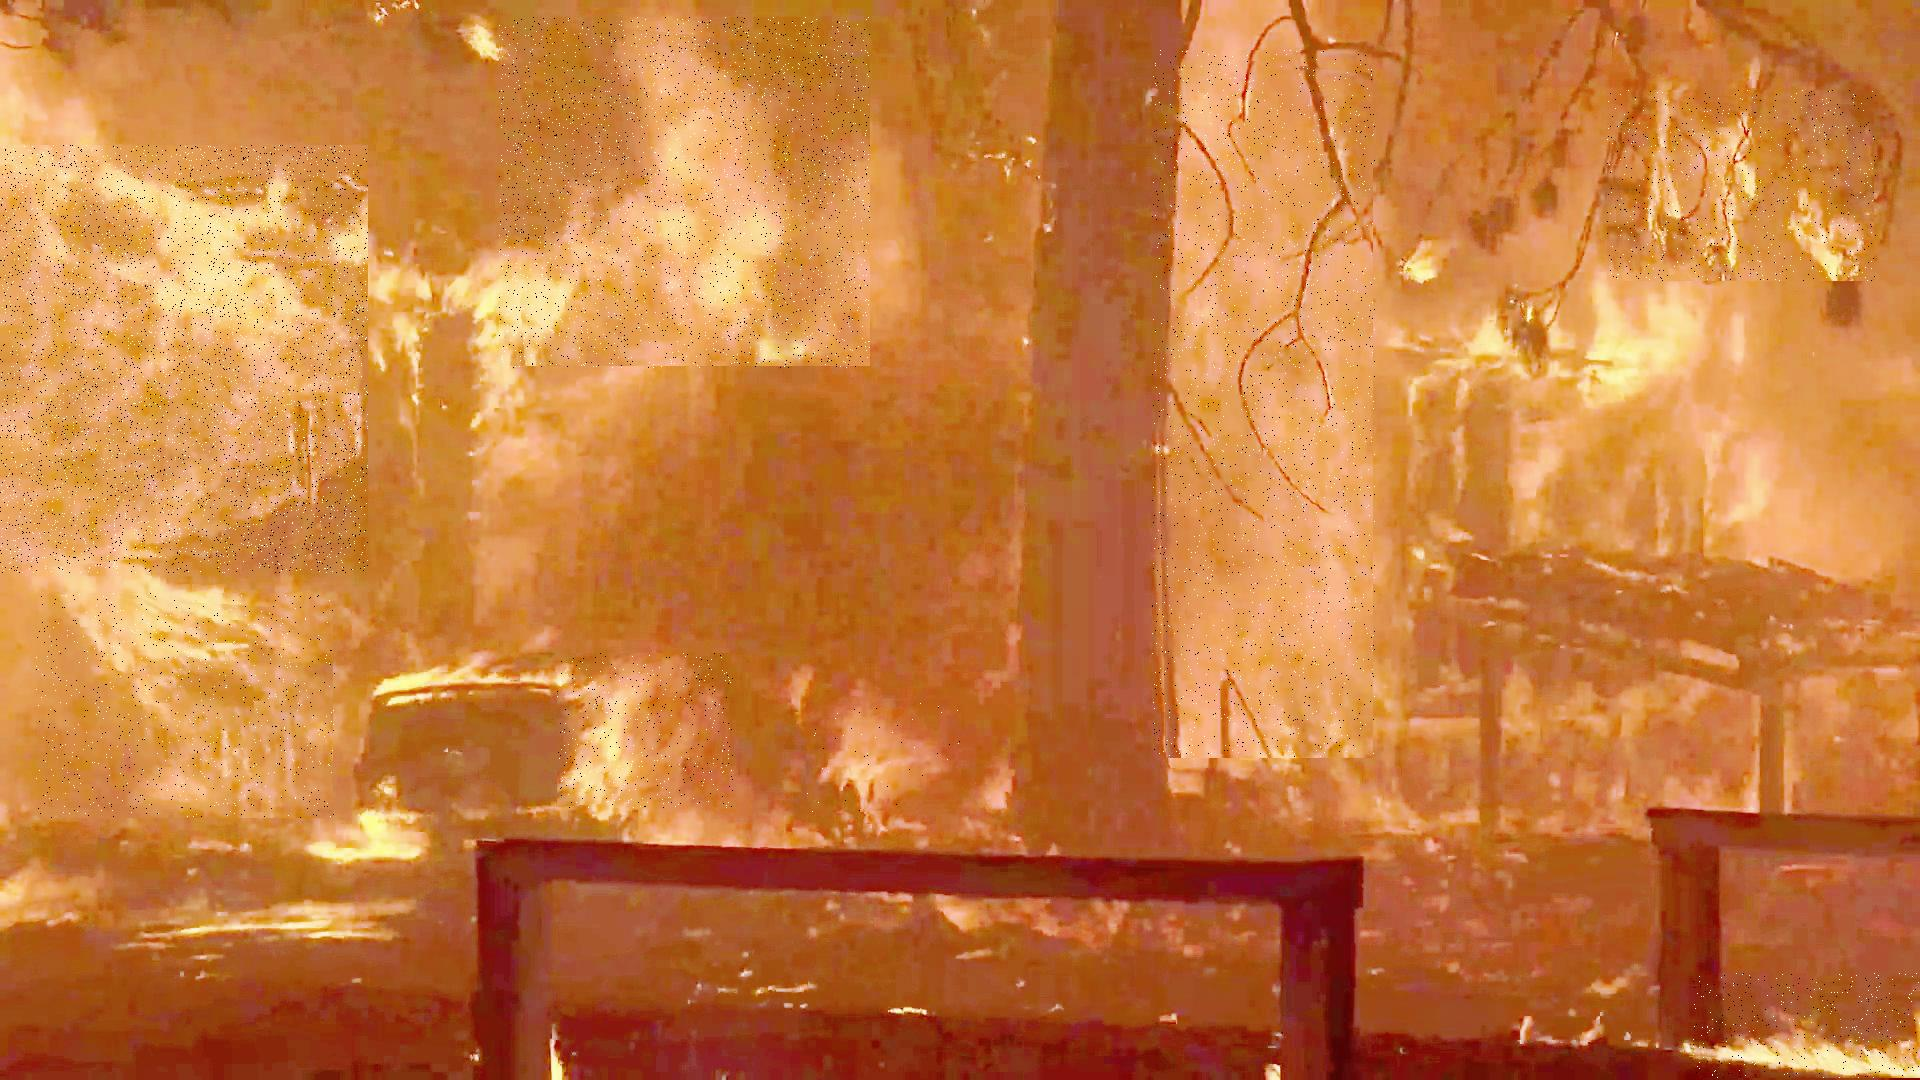fire: (1153, 50, 1375, 758), (0, 146, 368, 574), (500, 18, 870, 369), (37, 593, 336, 818), (1607, 90, 1876, 281), (556, 653, 733, 808), (1693, 973, 1920, 1079), (807, 698, 961, 814)
